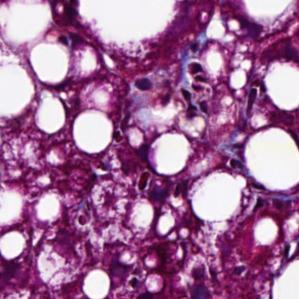inflammation: (169, 57, 221, 116)
